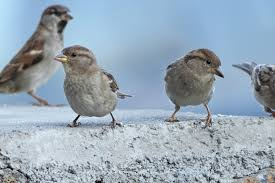hsparrow: (1, 2, 78, 111), (54, 45, 136, 137), (157, 43, 225, 127)
